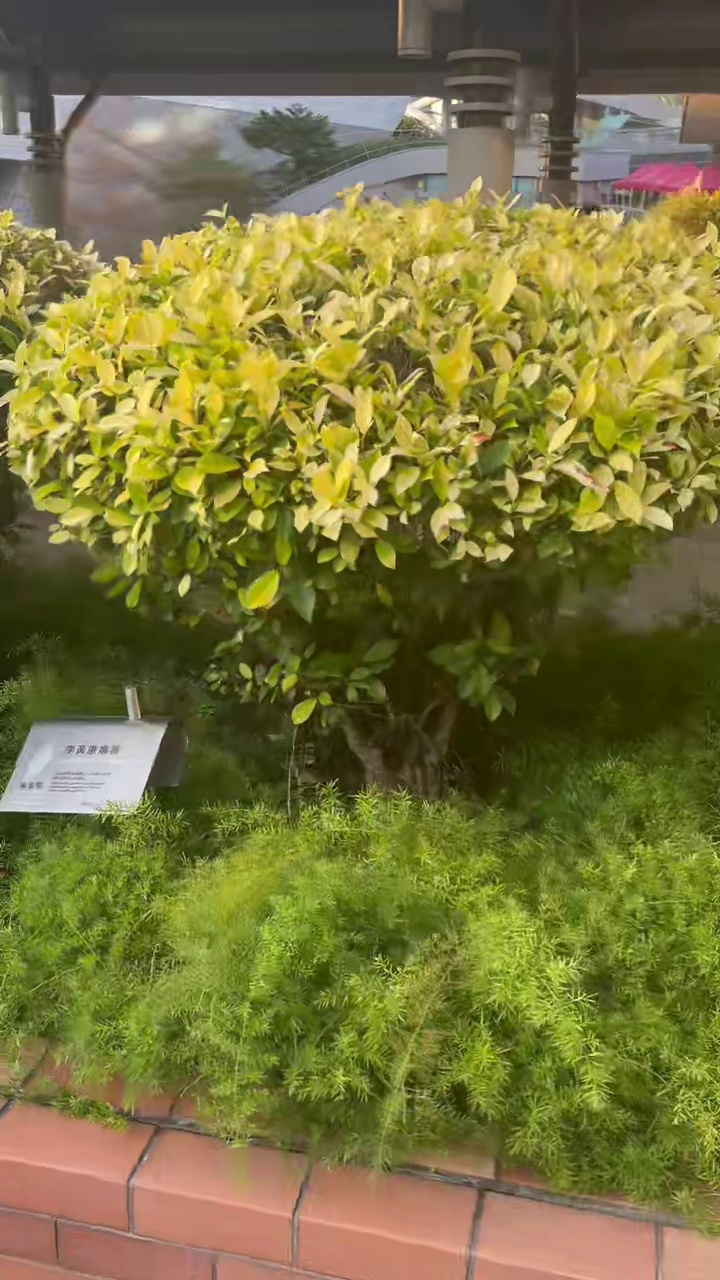Golden-leaves Fig: (9, 189, 719, 777)
